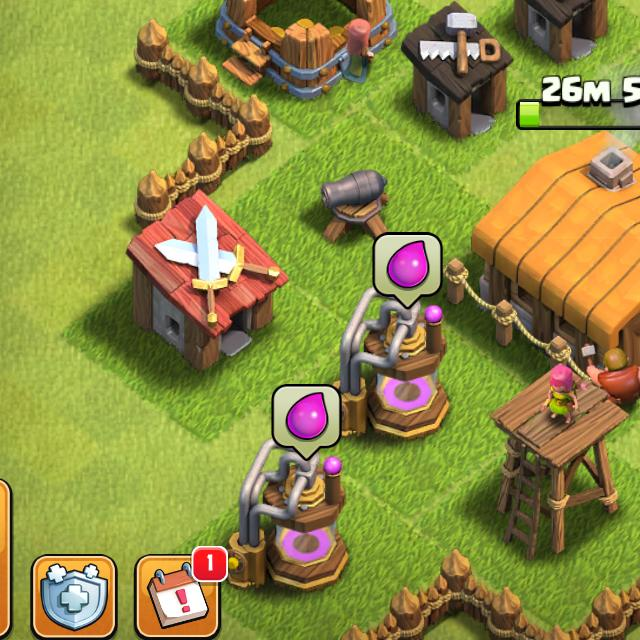Elixir: (371, 232, 442, 310), (272, 384, 342, 456)
